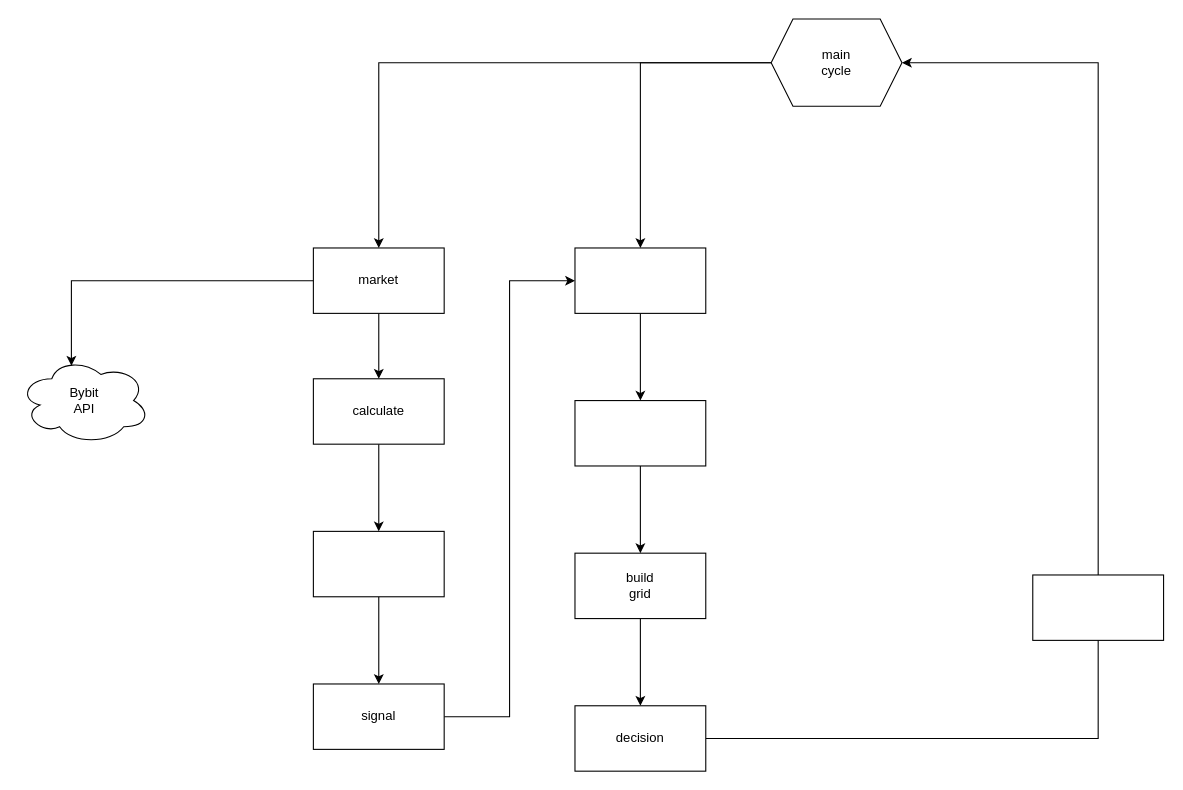
This 1183x790 diagram has some shape labels left out. The shapes that lost their labels are listed below. From the top down, each one's centre as x and y in pixels, then its label:
point (640, 280): trade
point (640, 432): change state
point (378, 563): indicator
point (1098, 607): deal
